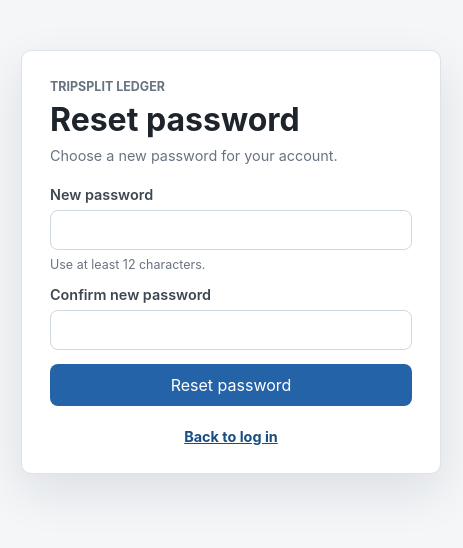
Test case: ResetPasswordPage › shows the server error message when the token is invalid or expired
Type "brand-new-password-456" into the password field labelled "New password Use at least 12 characters.".
click(231, 230); type("brand-new-password-456")  # box 50,210 -> 412,250
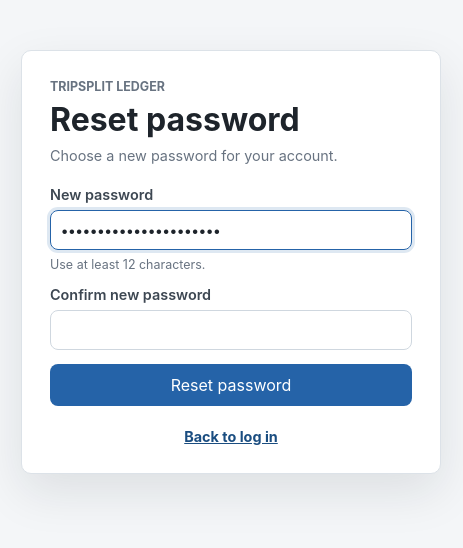
Type "brand-new-password-456" into the password field labelled "Confirm new password".
click(231, 330); type("brand-new-password-456")  # box 50,310 -> 412,350
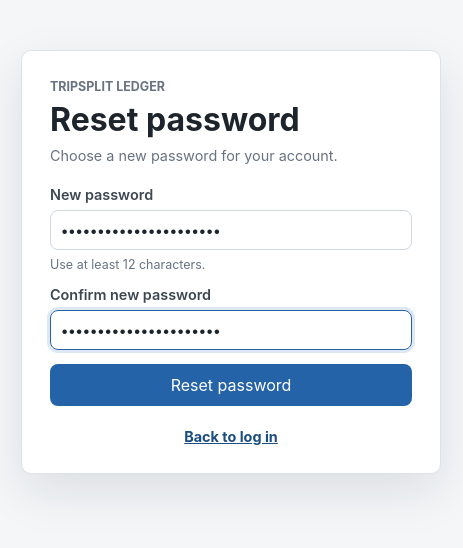
Click the button "Reset password".
click(231, 385)  # box 50,364 -> 412,406
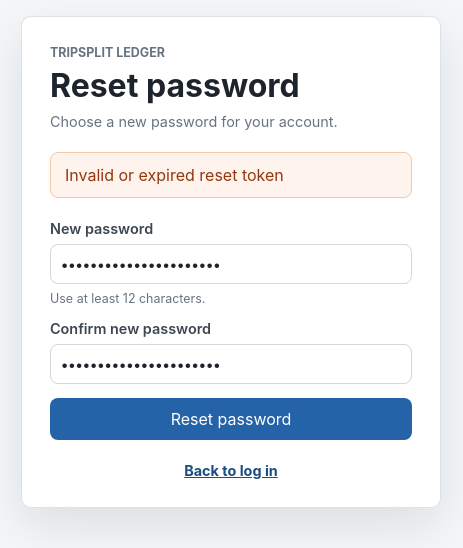
Result: the text "Invalid or expired reset token" is shown at 50,152 -> 412,198
